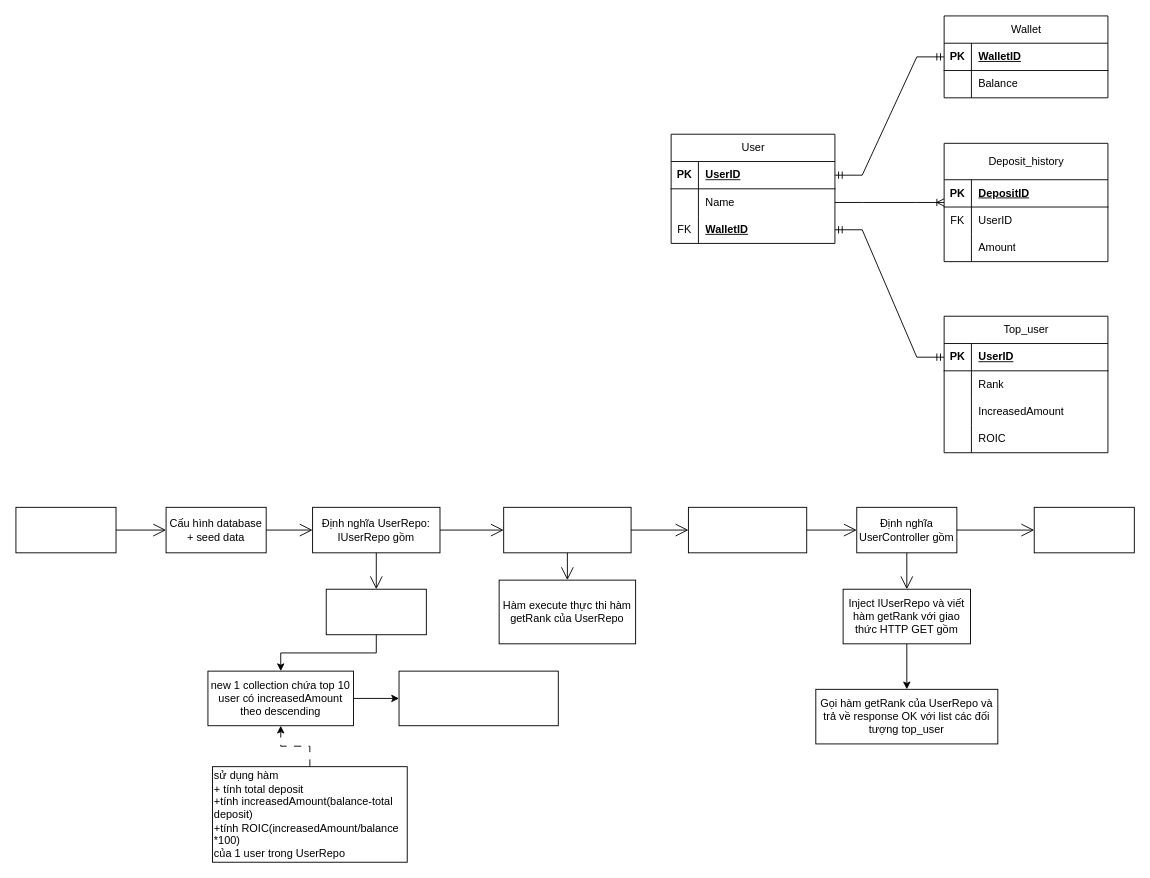
Some shapes in this 1150 by 878 pixel diagram are drawn without their labels. The shapes that lost their labels are listed below. From the top down, each one's centre as x and y in pixels, then its label:
At point 65,529: "Cấu hình web api".
At point 567,529: "Định nghĩa MyScheduledJob: IJob gồm".
At point 747,529: "Cấu hình Scheduler chạy MyScheduledJob mỗi 12h tối".
At point 1083,529: "React gọi API hiển thị ra màn hình".
At point 375,611: "Viết hàm async getRank gồm".
At point 478,698: "duyệt qua từng phần tử và lưu vào bảng top_user".
